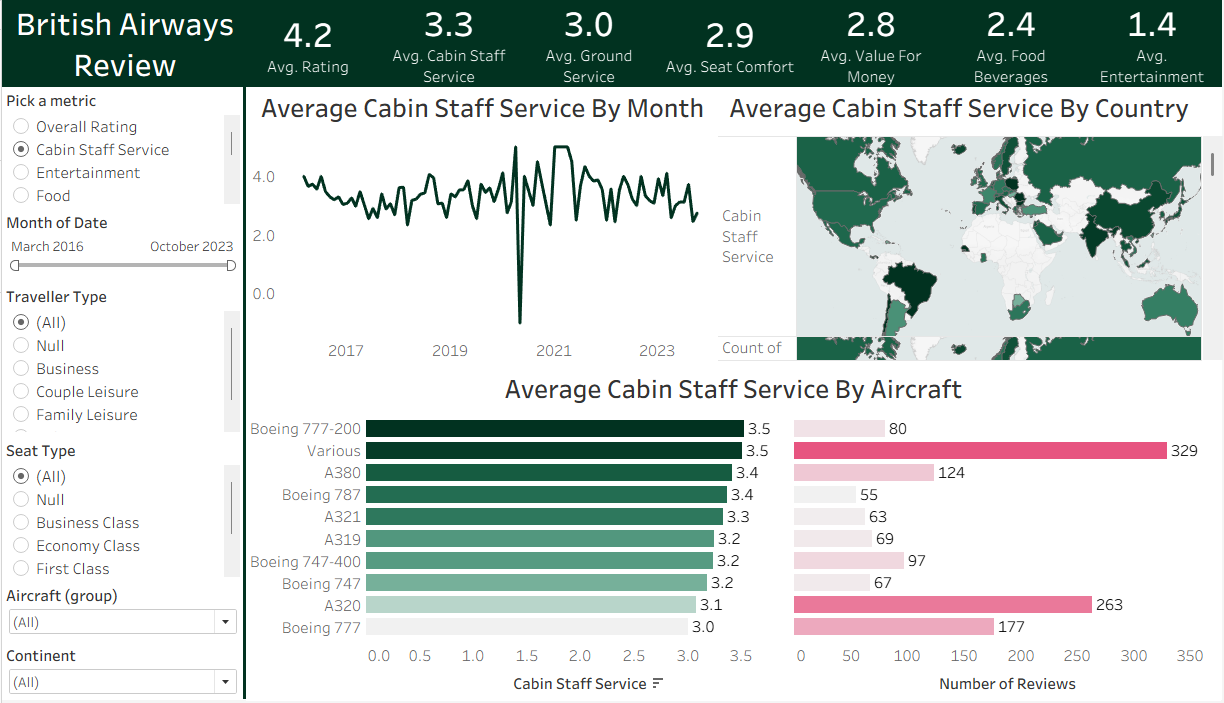

The dashboard page shown, as its layout file describes it:
{"tool":"tableau","page":{"name":"Dashboard 1","canvas":[1220,700],"ordinal":0},"visuals":[{"type":"worksheet","title":"Summary","mark":"Automatic","box":[236,0,984,87]},{"type":"parameter","param":"[Parameters].[Parameter 1]","box":[0,86,242,122]},{"type":"worksheet","title":"Month","mark":"Automatic","rows":["Calculation_1881378749289611264"],"cols":["date"],"box":[245,86,471,277]},{"type":"worksheet","title":"Map","mark":"Automatic","box":[714,86,507,275]},{"type":"filter","title":"Map","param":"[federated.0njsp5h0mts22r1gt4jsh1ggcx3t].[tmn:date:qk]","box":[0,208,242,74]},{"type":"filter","title":"Map","param":"[federated.0njsp5h0mts22r1gt4jsh1ggcx3t].[none:traveller_type:nk]","box":[0,282,242,154]},{"type":"worksheet","title":"Aircraft","mark":"Automatic","cols":["Calculation_1881378749289611264","ba_reviews.csv_86F53736E7B3464BAABF576320E9CC24"],"box":[244,367,975,334]},{"type":"filter","title":"Map","param":"[federated.0njsp5h0mts22r1gt4jsh1ggcx3t].[none:seat_type:nk]","box":[0,436,242,145]},{"type":"filter","title":"Map","param":"[federated.0njsp5h0mts22r1gt4jsh1ggcx3t].[Aircraft (group)]","box":[0,581,242,52]},{"type":"filter","title":"Map","param":"[federated.0njsp5h0mts22r1gt4jsh1ggcx3t].[none:Continent:nk]","box":[0,633,242,52]}]}

Visuals, with their boxes in screenshot pixels (x1, y1, x2, y2), scaled from the page's 1220x700 canvas onto the 1224x703 screenshot:
"Summary" worksheet: box(237, 0, 1223, 87)
parameter: box(0, 86, 243, 209)
"Month" worksheet: box(246, 86, 718, 365)
"Map" worksheet: box(716, 86, 1223, 363)
"Map" filter: box(0, 209, 243, 283)
"Map" filter: box(0, 283, 243, 438)
"Aircraft" worksheet: box(245, 369, 1223, 702)
"Map" filter: box(0, 438, 243, 583)
"Map" filter: box(0, 583, 243, 636)
"Map" filter: box(0, 636, 243, 688)
